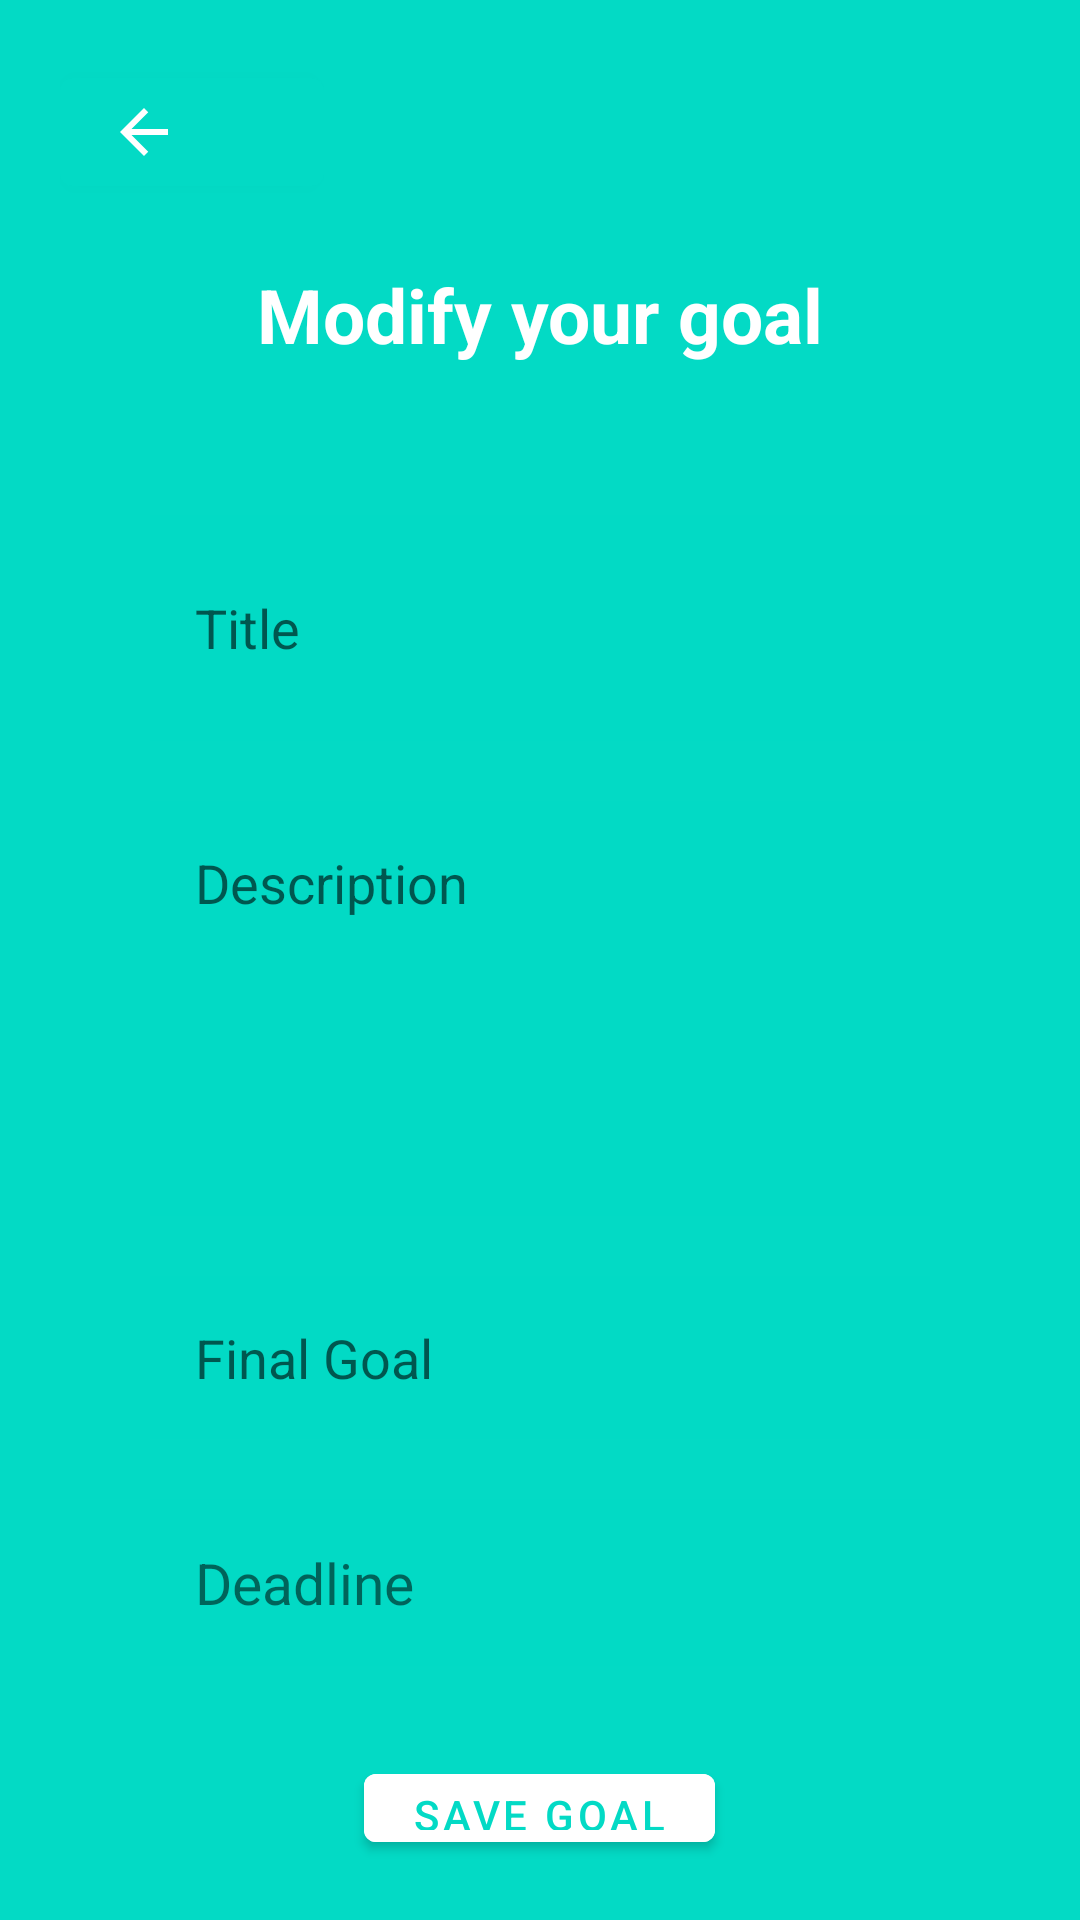

Where to tap for icons on this 1080 x 1920 app screen, as (x,y):
return: (144,132)
